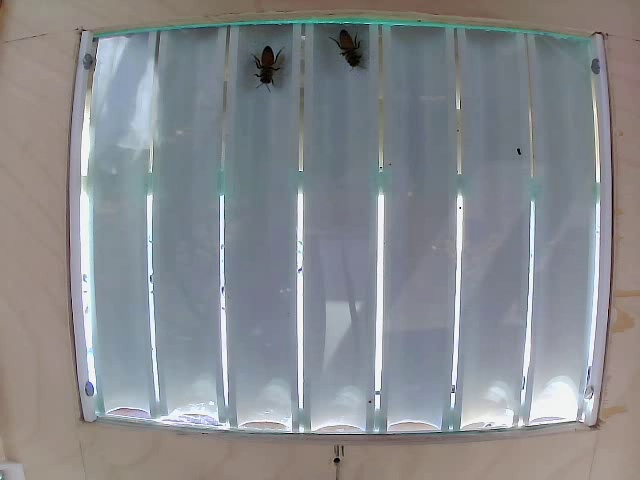bee: (248, 41, 299, 93), (333, 24, 370, 72)
